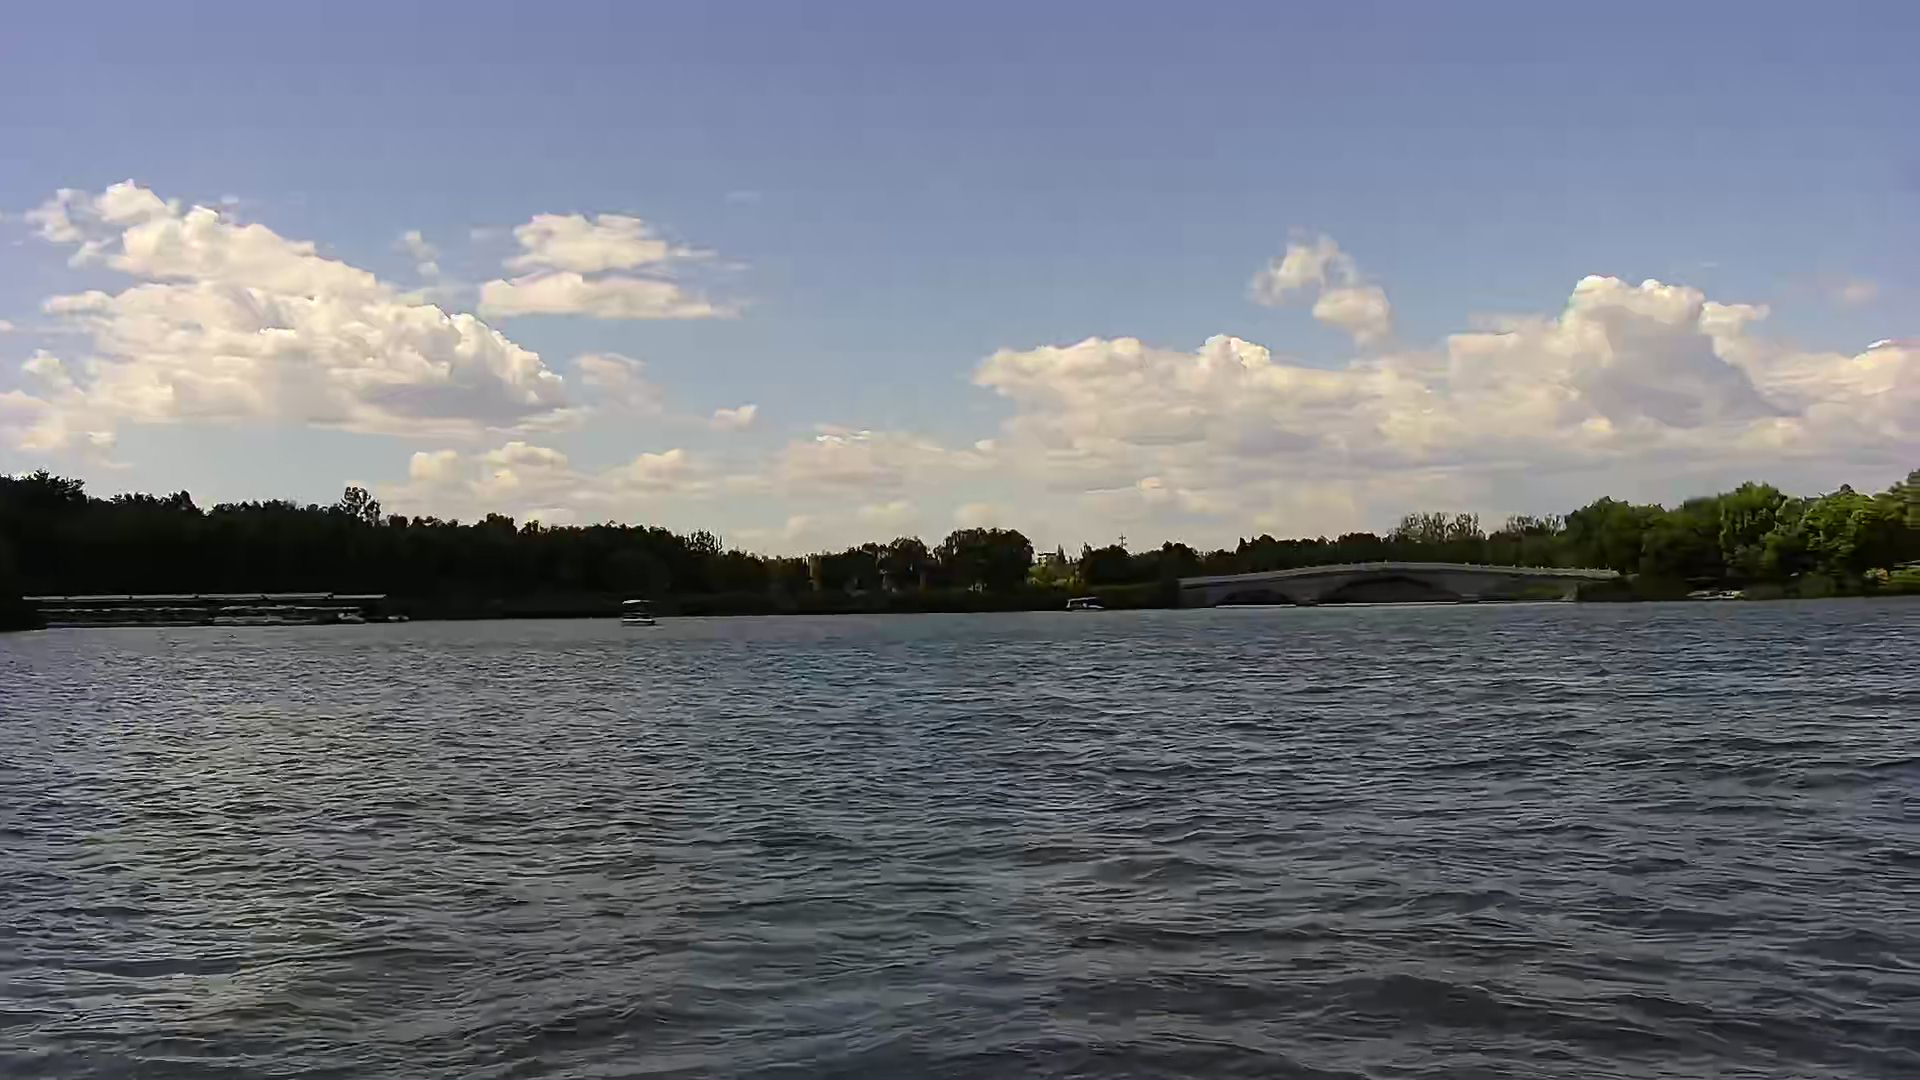boat: (613, 589, 665, 632)
bridge: (1175, 553, 1629, 607)
harbor: (21, 585, 409, 632)
